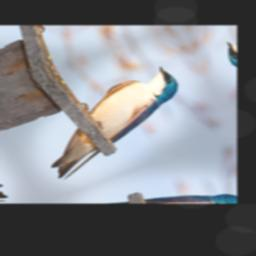Swallow: (22, 63, 204, 183)
